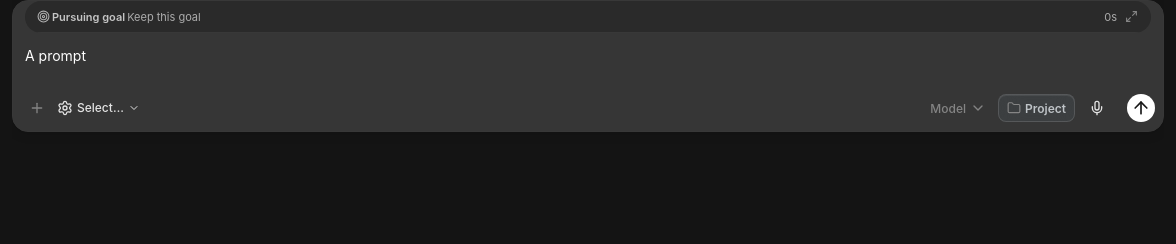
composer image input › keeps an existing goal visible with an unavailable explanation while reloading
Click the heading named "Goal details".
click(89, 16)  # box [25,1,1151,33]
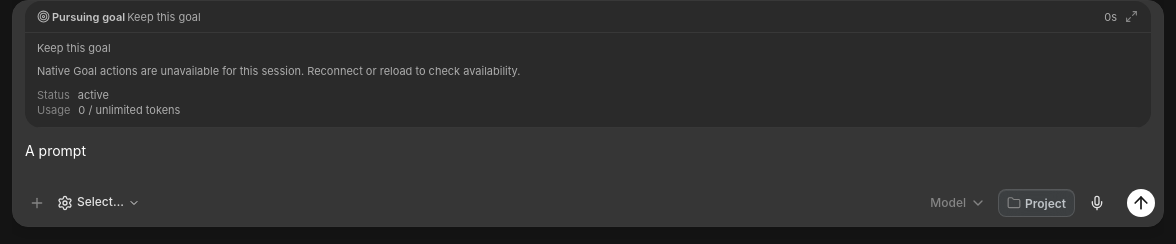
Now the text "Native Goal actions are unavailable" is shown, box [37,64,520,78]
